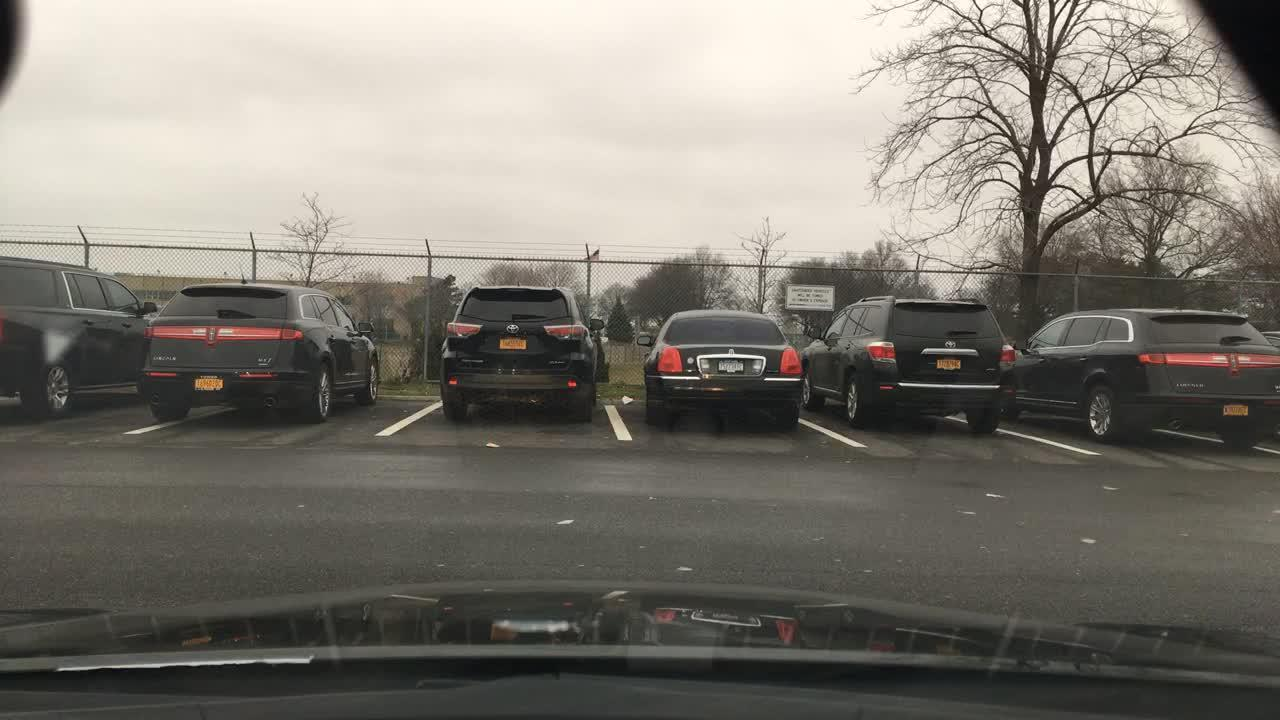Toyota: (505, 322, 522, 335), (943, 338, 959, 350)
lincoln: (204, 323, 220, 349), (1227, 348, 1240, 376), (726, 347, 738, 358)
